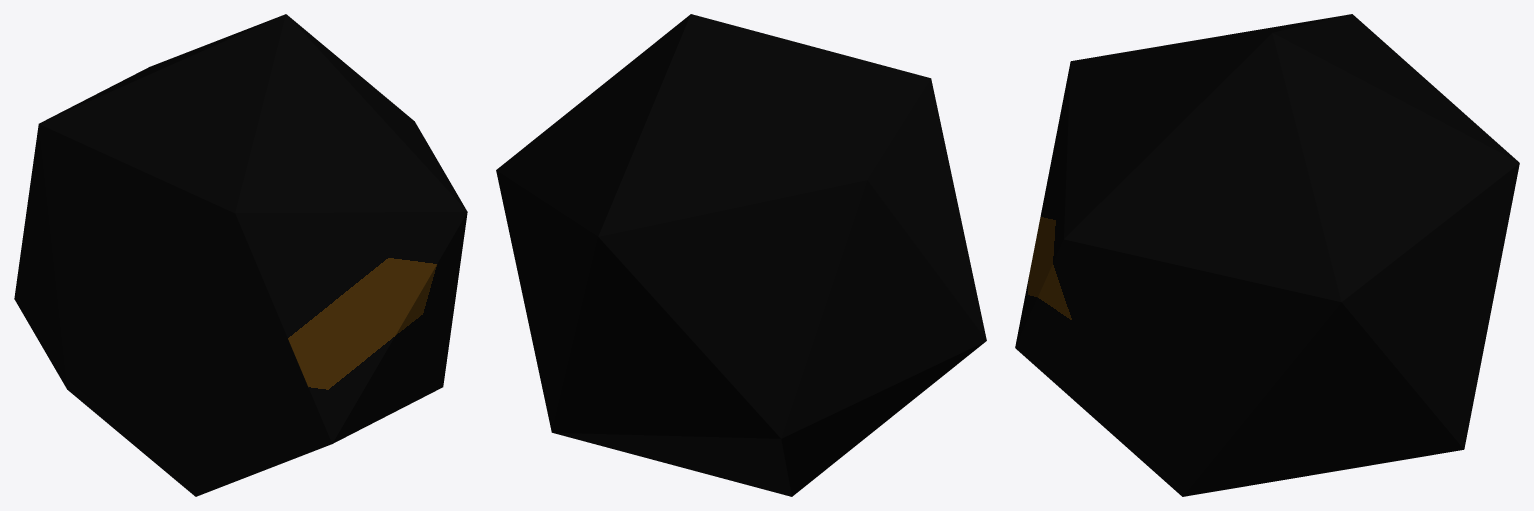
3 views of the same model, side by side, from view 1: azimuth 30°, elevation 25°; view 2: azimuth 150°, elevation 25°; view 3: azimuth 270°, elevation 25° (orthographic). The views are drawn at different scales.
Visible parts, largest first — view 1: node_id5; view 2: node_id5; view 3: node_id5.
Part boxes in pixels (bbox=[...]): node_id5: bbox=[14, 14, 467, 496]; node_id5: bbox=[496, 14, 986, 496]; node_id5: bbox=[1015, 14, 1519, 496].
Size of the model in its own units: 0.327 by 0.3431 by 0.3167.
1 material, 1 textured.
